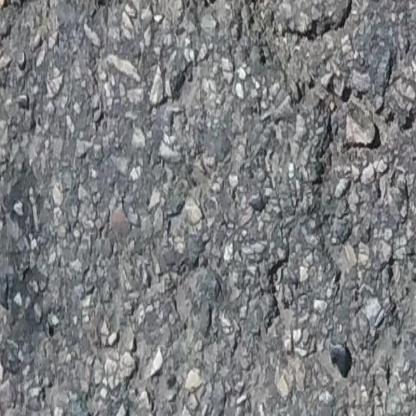Cracks: (264, 0, 372, 47), (0, 0, 42, 45)
